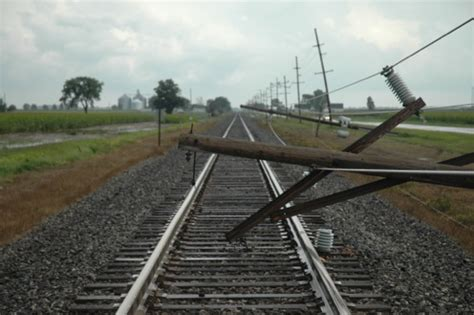pole: (306, 26, 347, 121), (289, 56, 307, 117), (262, 77, 292, 110)
